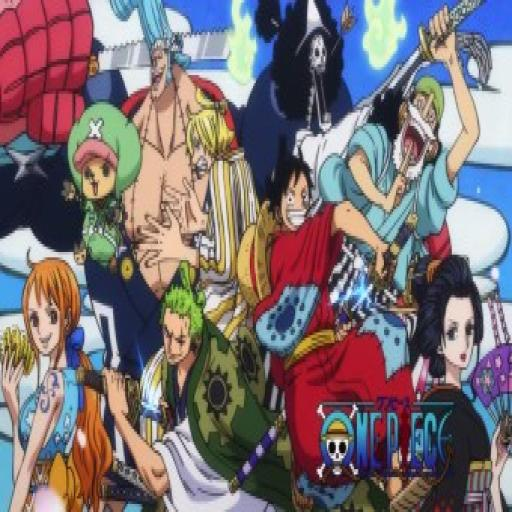Luffy: (267, 156, 318, 236)
Nami: (12, 246, 84, 366)
NicoRobin: (416, 266, 493, 388)
Usopp: (381, 67, 446, 195)
Zoro: (158, 268, 213, 373)
sanji: (182, 102, 237, 182)
